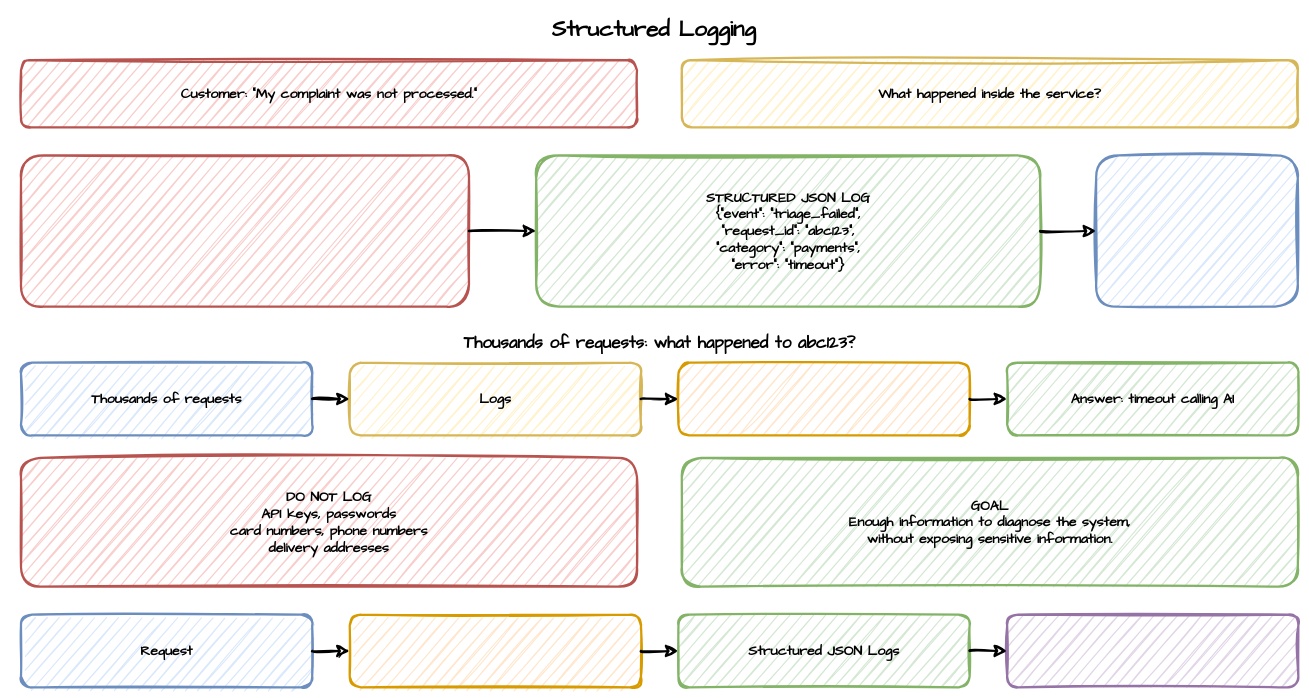
The diagram is 1309 pixels wide and 698 high, and some of its shapes have lost their labels. The box of each missing label's shape, as (x1, y1, x2, y2) in pixels:
Complaint Triage Service: (348, 613, 642, 688)
Logging / Monitoring System: (1006, 613, 1299, 688)
PLAIN TEXT LOG Something went wrong Complaint failed: (20, 154, 470, 307)
Search Filter Analyse: (1095, 154, 1299, 307)
Search request_id = abc123: (677, 361, 970, 436)
